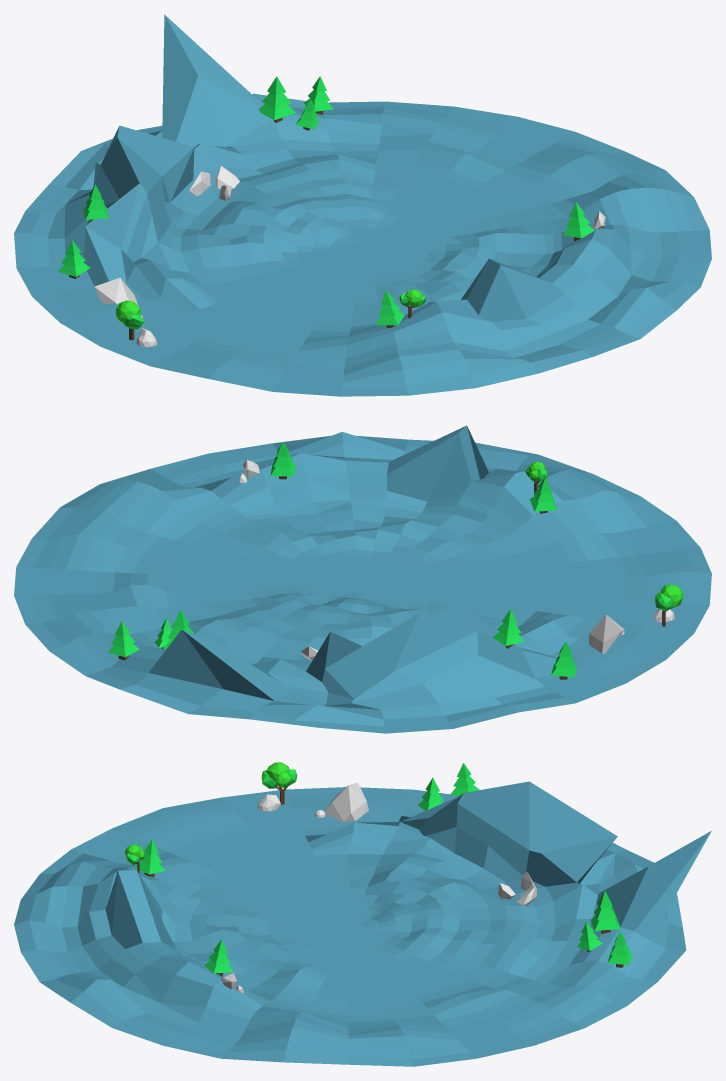
The model's file is terrain.glb.
3 views of the same model, one above another, from view 1: azimuth 30°, elevation 25°; view 2: azimuth 150°, elevation 25°; view 3: azimuth 270°, elevation 25° (orthographic). The views are drawn at different scales.
Visible parts, largest first — view 1: Circle, Cube.002, Icosphere.005, Icosphere.009, Cube.004, Cube.005, Cube.006; view 2: Circle, Icosphere.005, Icosphere.009, Cube, Cube.003, Cube.005, Cube.006, Cube.004; view 3: Circle, Icosphere.005, Icosphere.009, Cube.002, Cube.006, Cube.005, Cube.
Part boxes in pixels (x1=…): Circle: x1=14, y1=14, x2=711, y2=396; Cube.002: x1=258, y1=76, x2=295, y2=122; Icosphere.005: x1=94, y1=277, x2=138, y2=305; Icosphere.009: x1=116, y1=300, x2=144, y2=340; Cube.004: x1=58, y1=240, x2=90, y2=278; Cube.005: x1=563, y1=202, x2=594, y2=241; Cube.006: x1=376, y1=290, x2=404, y2=327; Circle: x1=14, y1=425, x2=711, y2=733; Icosphere.005: x1=589, y1=614, x2=624, y2=653; Icosphere.009: x1=655, y1=584, x2=683, y2=626; Cube: x1=107, y1=621, x2=139, y2=660; Cube.003: x1=492, y1=609, x2=524, y2=648; Cube.005: x1=270, y1=442, x2=295, y2=479; Cube.006: x1=529, y1=477, x2=556, y2=513; Cube.004: x1=551, y1=642, x2=576, y2=679; Circle: x1=14, y1=781, x2=711, y2=1066; Icosphere.005: x1=324, y1=782, x2=368, y2=821; Icosphere.009: x1=261, y1=762, x2=297, y2=804; Cube.002: x1=590, y1=890, x2=620, y2=933; Cube.006: x1=134, y1=839, x2=165, y2=877; Cube.005: x1=204, y1=939, x2=233, y2=976; Cube: x1=607, y1=932, x2=632, y2=967.
Size of the model in its own units: 2 by 0.3335 by 2.08.
